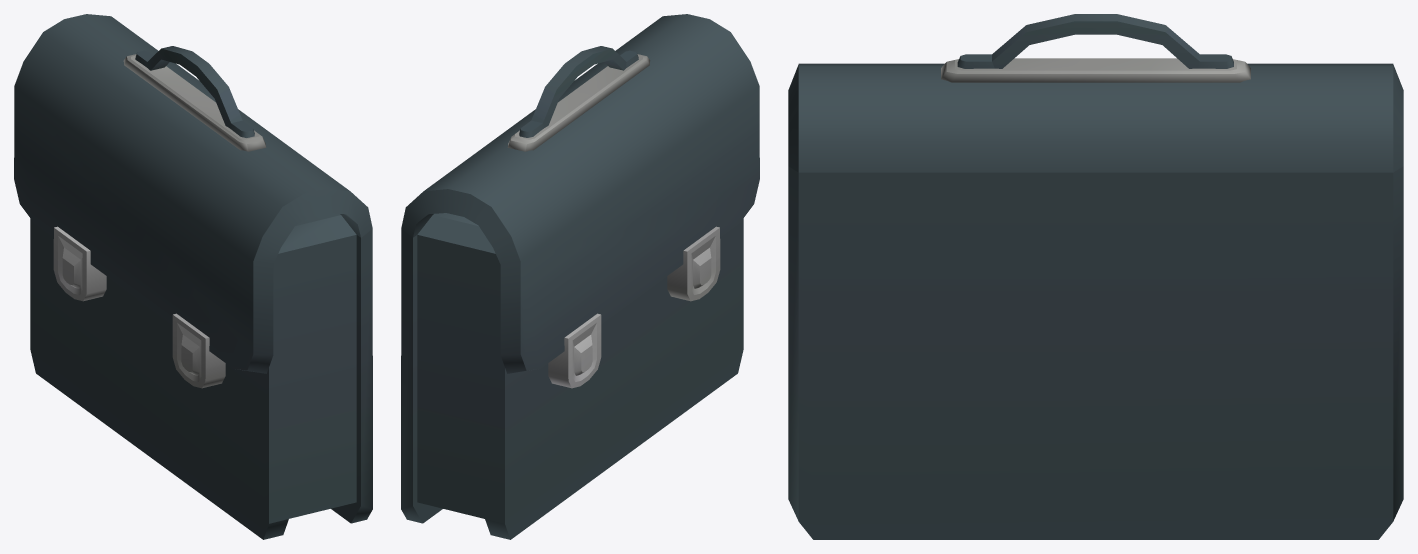
Rendered from Suitcase_1_1_D.fbx.
3 views of the same model, side by side, from view 1: azimuth 30°, elevation 25°; view 2: azimuth 150°, elevation 25°; view 3: azimuth 270°, elevation 25° (orthographic). The views are drawn at different scales.
Visible parts, largest first — view 1: Suitcase_1_1_D; view 2: Suitcase_1_1_D; view 3: Suitcase_1_1_D.
Boxes of the visible parts, box(x1,y1,x2,y2) form: Suitcase_1_1_D: box(14, 14, 372, 539); Suitcase_1_1_D: box(401, 14, 759, 539); Suitcase_1_1_D: box(788, 14, 1403, 539).
Size of the model in its own units: 16.04 by 47.79 by 54.73.
